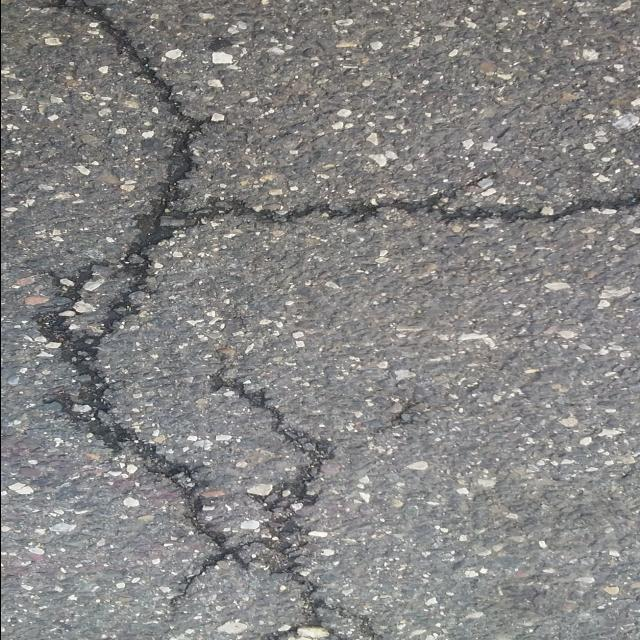Crack: (34, 0, 639, 640)
